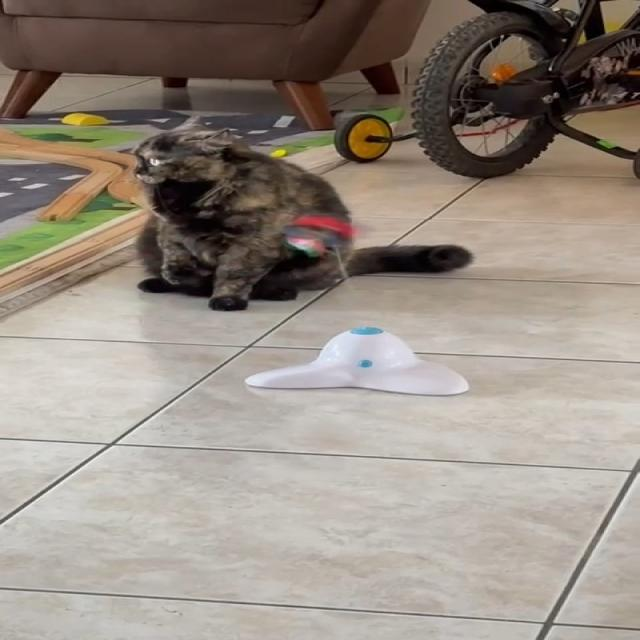authorized: (130, 114, 473, 311)
